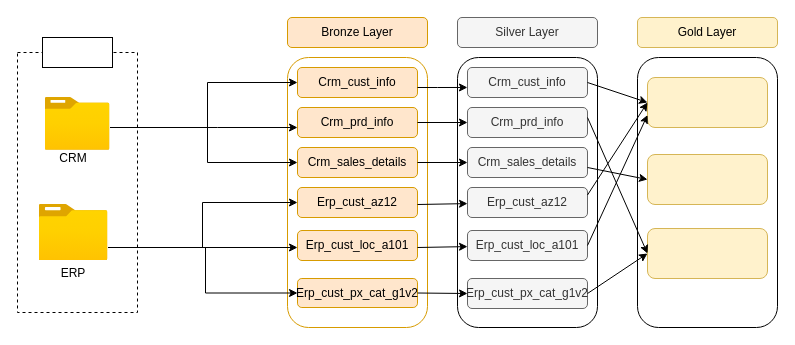
This 795x345 diagram has some shape labels left out. Here are the shapes that lost their labels. From the top down, the centre of each, then its label:
At [77,52]: "Source".
At [707,102]: "Dim_customer".
At [707,179]: "Fact_sales".
At [707,253]: "Dim_Product".
